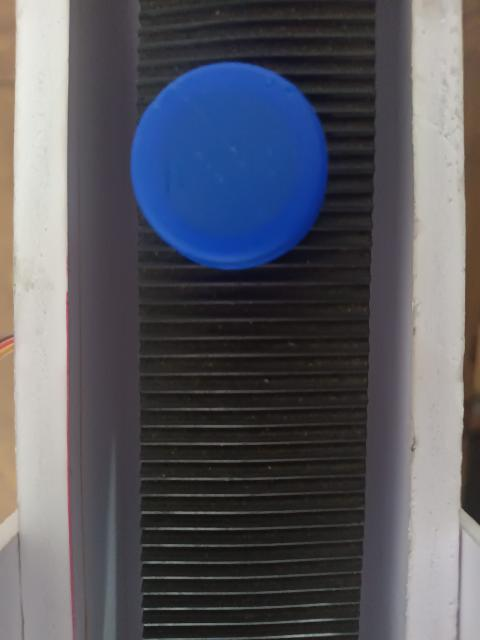bottlecap: (128, 59, 336, 278)
